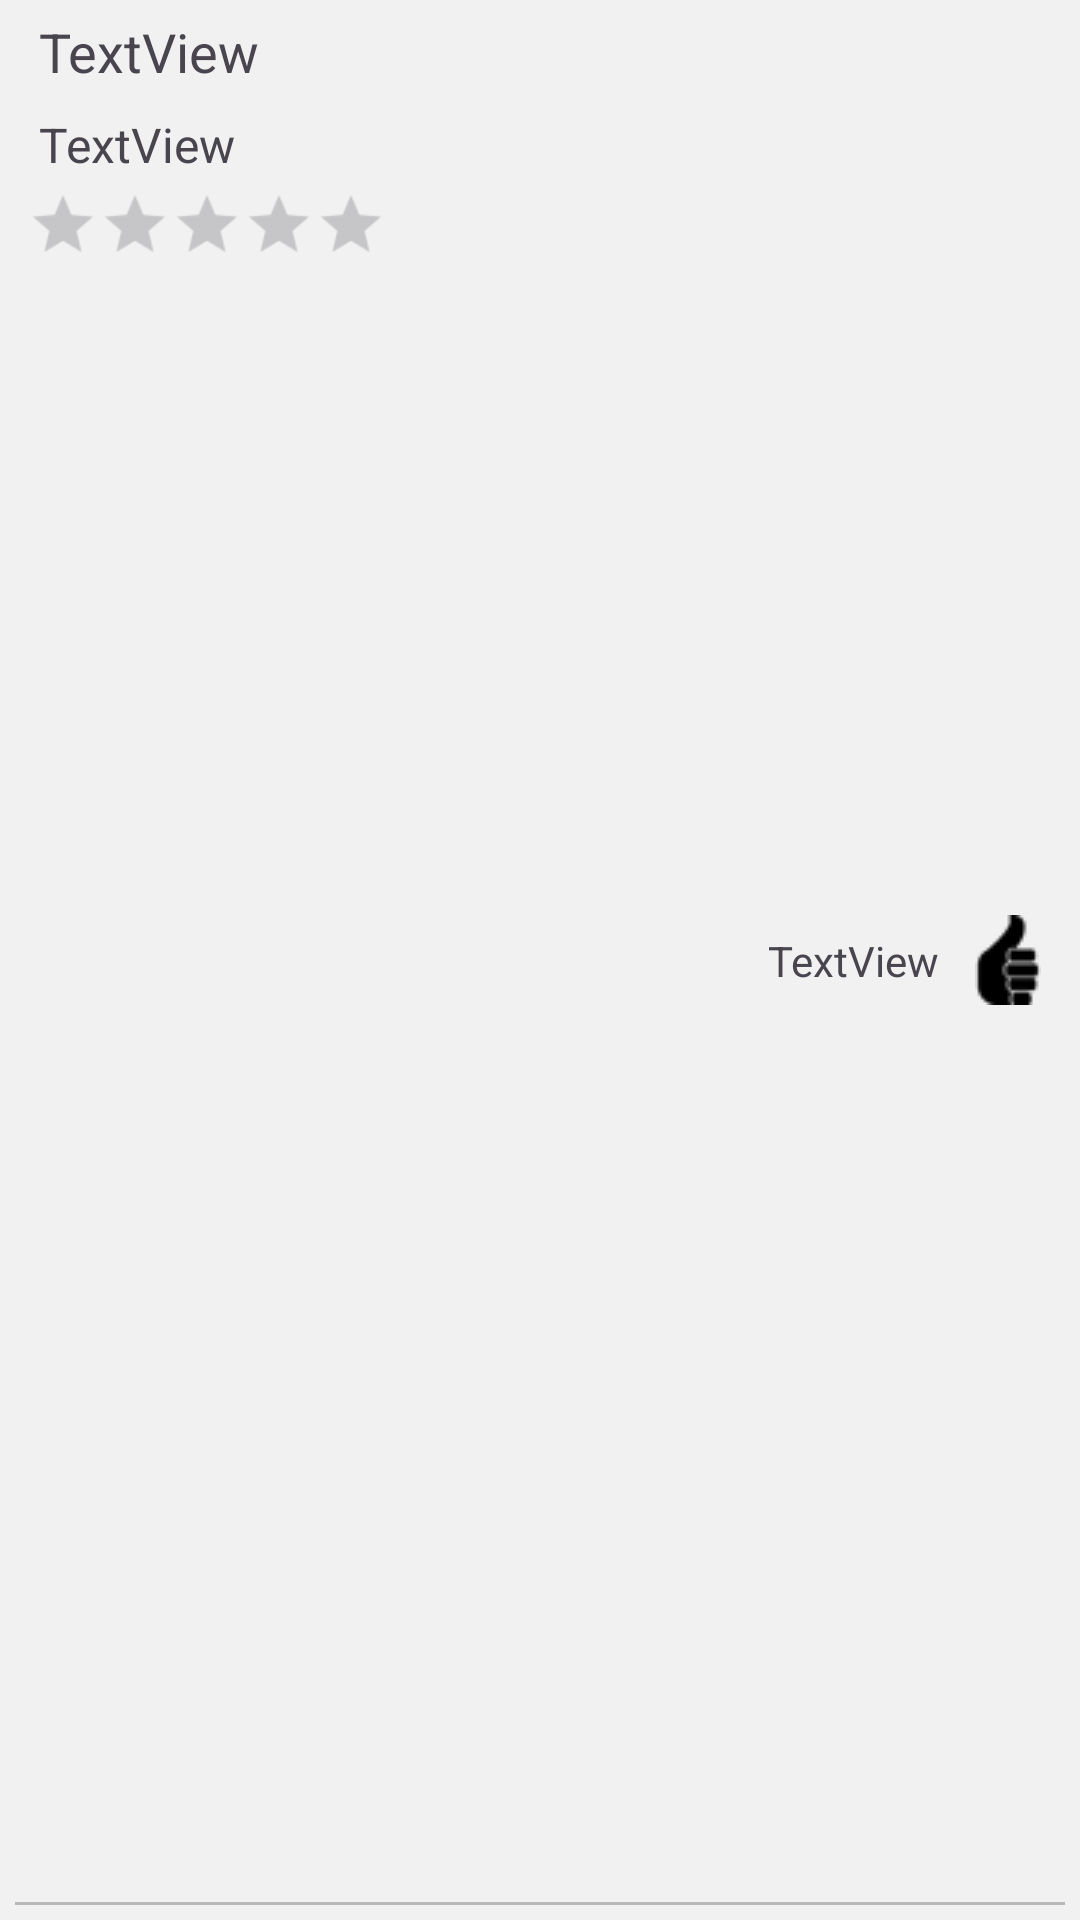

Icon click points for this 1080 x 1920 phone screenshot, format (x,y):
like: (1008,960)
